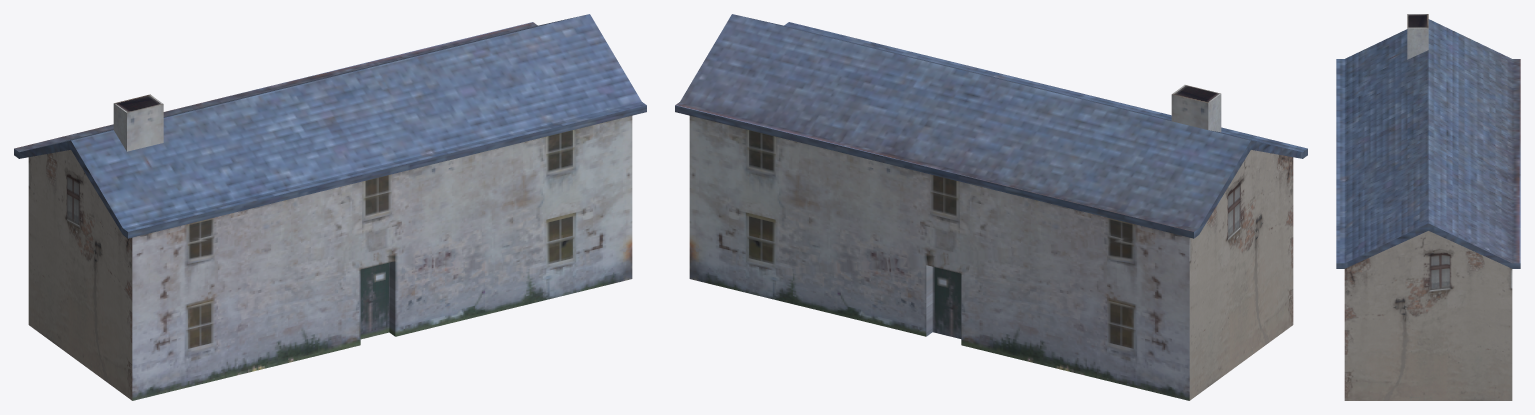
File: Building1.fbx
3 views of the same model, side by side, from view 1: azimuth 30°, elevation 25°; view 2: azimuth 150°, elevation 25°; view 3: azimuth 270°, elevation 25° (orthographic). The views are drawn at different scales.
Parts seen in each view (by area): view 1: Building1; view 2: Building1; view 3: Building1.
Part boxes in pixels (bbox=[...]): Building1: bbox=[14, 14, 646, 400]; Building1: bbox=[675, 14, 1307, 400]; Building1: bbox=[1336, 14, 1520, 400].
Bounding box in the file's own units: 1420 × 658 × 540.
